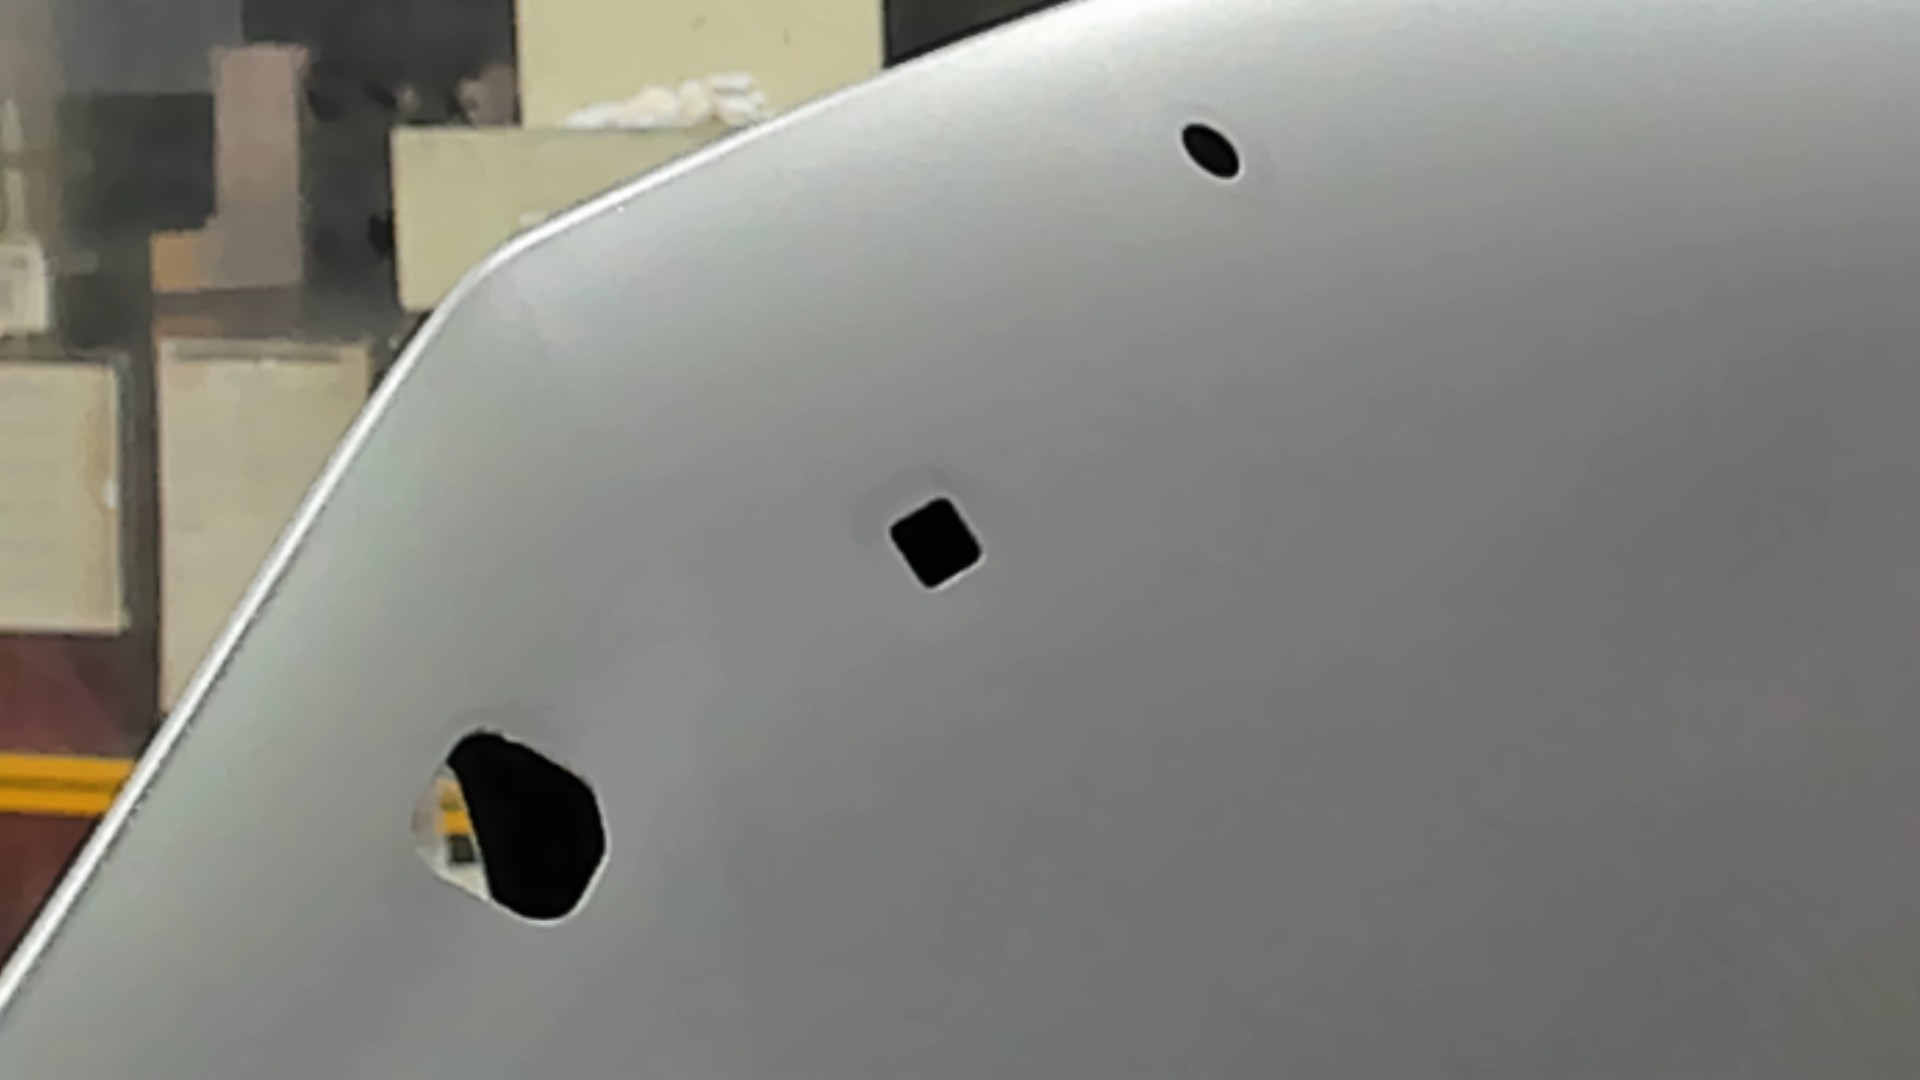capo: (1002, 187, 1920, 1080)
chico: (1178, 117, 1247, 189)
grande: (404, 723, 616, 935)
mediano: (882, 491, 986, 597)
